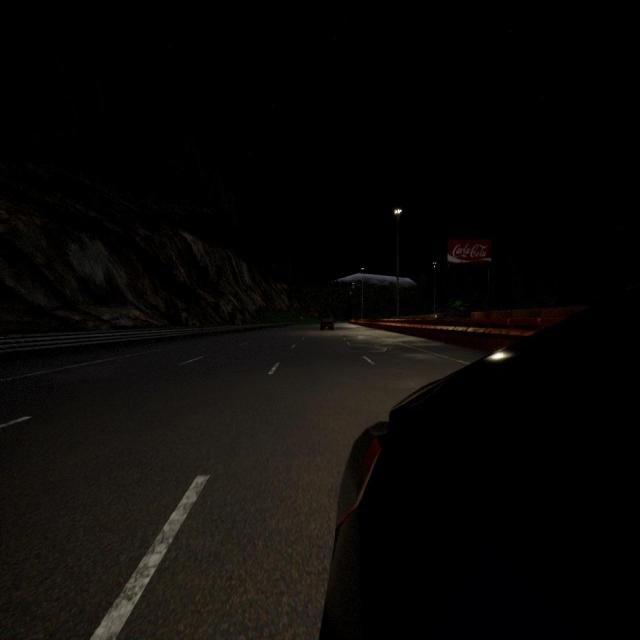Vehicle: (320, 286, 640, 638), (321, 313, 334, 331)
